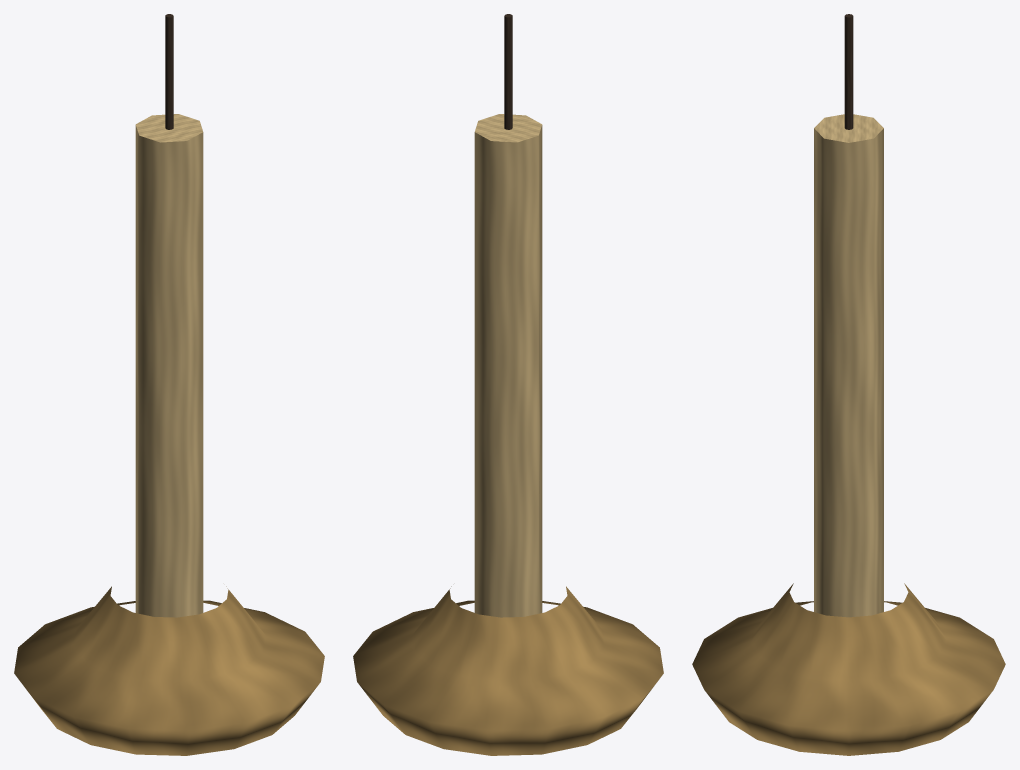
Rendered from candle.glb.
3 views of the same model, side by side, from view 1: azimuth 30°, elevation 25°; view 2: azimuth 150°, elevation 25°; view 3: azimuth 270°, elevation 25° (orthographic).
Parts seen in each view (by area): view 1: candle; view 2: candle; view 3: candle.
Part boxes in pixels (left/top/right/bottom): candle: left=14, top=14, right=324, bottom=755; candle: left=353, top=14, right=663, bottom=755; candle: left=692, top=14, right=1005, bottom=755.
Bounding box in the file's own units: 0.1574 × 0.38 × 0.1576.
Materials: 1 (1 with a texture image).
